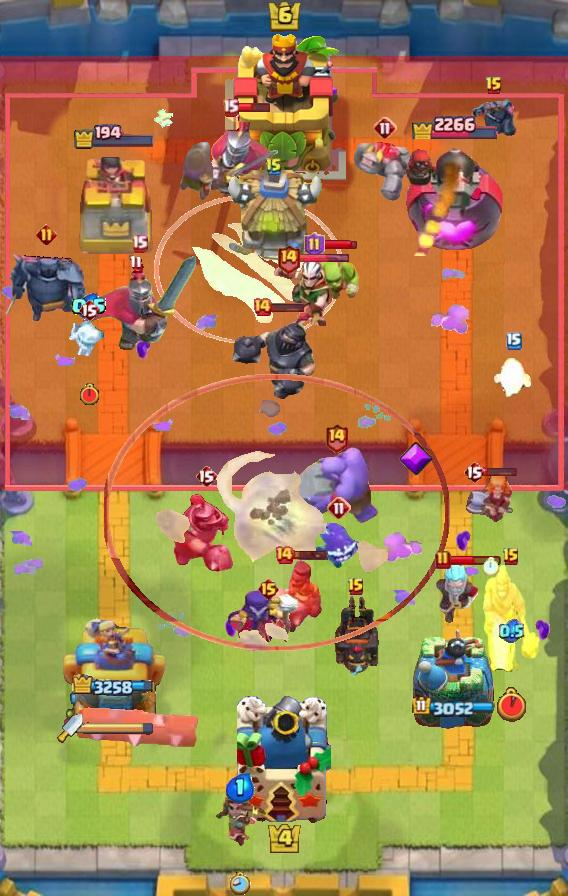archer-evolution: (331, 594, 381, 676)
archer-queen: (292, 445, 380, 525)
axe: (226, 589, 310, 651)
bar: (61, 615, 166, 731)
bat: (66, 314, 112, 358), (493, 355, 535, 397)
battle-ram: (469, 90, 519, 144)
bomb-tower: (177, 140, 213, 200)
bomber-evolution: (213, 792, 267, 848)
electro-spirit: (71, 293, 107, 320), (225, 773, 254, 803), (499, 619, 524, 644)
elite-barbarian: (265, 559, 325, 633)
elixir: (497, 686, 526, 721), (80, 382, 101, 406), (229, 872, 250, 896), (483, 556, 499, 575)
emote: (449, 554, 502, 566), (298, 252, 350, 263), (292, 549, 329, 561), (236, 101, 272, 113), (322, 239, 358, 251), (269, 301, 305, 313), (483, 467, 518, 478)
flying-machine: (297, 250, 359, 304)
freeze: (480, 563, 542, 675)
golemite: (1, 249, 91, 325)
hog-rider: (465, 473, 517, 527)
ice-wizard: (154, 195, 344, 344)
king-tower: (222, 31, 346, 181), (237, 696, 331, 826)
king-tower-bar: (83, 721, 155, 735)
minion: (75, 703, 201, 753)
mortar: (426, 558, 482, 626)
prince: (223, 170, 325, 266)
queen-tower: (71, 154, 157, 256), (411, 627, 495, 731)
royal-ghost: (104, 374, 450, 651)
royal-guardian: (226, 308, 318, 404), (171, 490, 241, 574)
selected: (410, 109, 499, 139), (72, 673, 156, 699), (72, 124, 155, 150), (413, 695, 496, 716)
skeleton-king: (271, 260, 337, 326)
skeleton-king-skill: (398, 441, 434, 477)
spear-goblin: (313, 523, 365, 569)
text: (275, 242, 300, 273), (323, 422, 348, 453), (373, 116, 397, 140), (327, 496, 351, 520), (256, 577, 280, 601), (304, 232, 325, 258), (78, 298, 100, 322), (463, 460, 485, 484), (195, 464, 217, 488), (36, 224, 57, 245), (252, 297, 272, 317), (274, 545, 294, 565), (485, 76, 503, 96), (265, 157, 283, 177), (502, 547, 520, 567), (347, 577, 365, 597), (131, 234, 149, 253), (222, 99, 239, 118), (435, 550, 451, 570), (506, 332, 522, 350)
tower-bar: (404, 138, 505, 256)
valkyrie-evolution: (353, 142, 417, 202)
wall-breaker-evolution: (80, 255, 198, 353), (203, 108, 281, 196)
